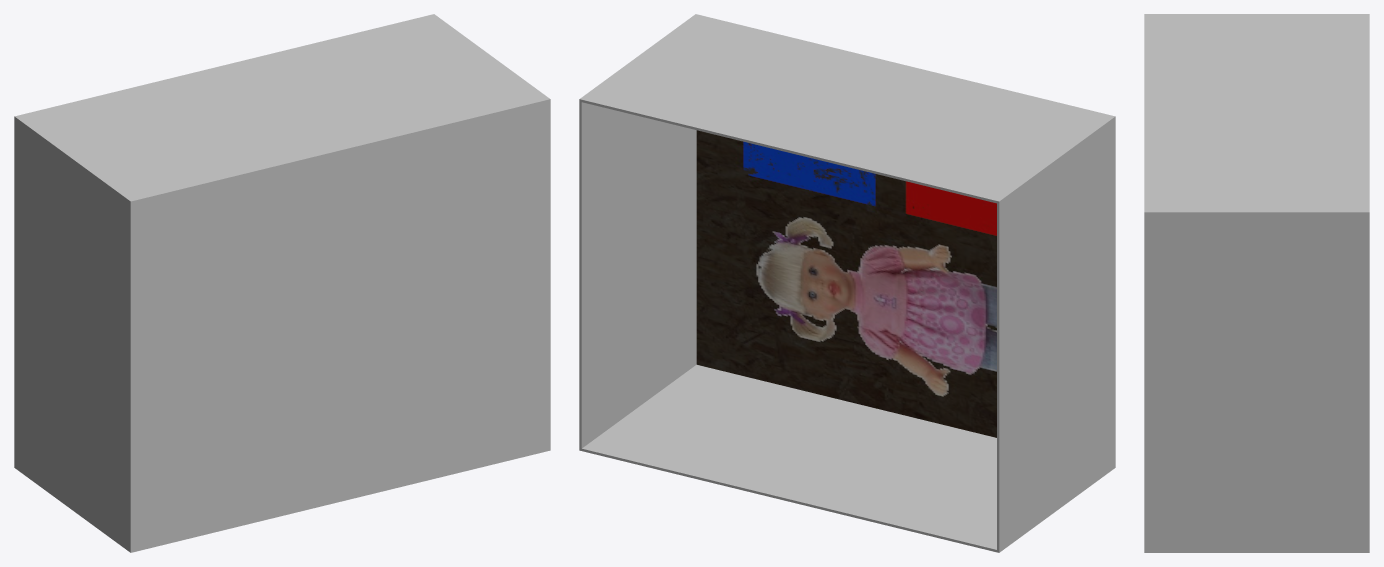
The model's file is victim_with_box_ts.dae.
The picture shows the model from 3 angles, left to right: view 1: azimuth 30°, elevation 25°; view 2: azimuth 150°, elevation 25°; view 3: azimuth 270°, elevation 25°; orthographic projection. The views are drawn at different scales.
Parts seen in each view (by area): view 1: Cube; view 2: Cube; view 3: Cube.
Boxes of the visible parts, x1,y1,x2,y2 form: Cube: [14, 14, 550, 552]; Cube: [579, 14, 1115, 552]; Cube: [1144, 14, 1369, 552].
Bounding box in the file's own units: 0.5 × 0.24 × 0.4.
